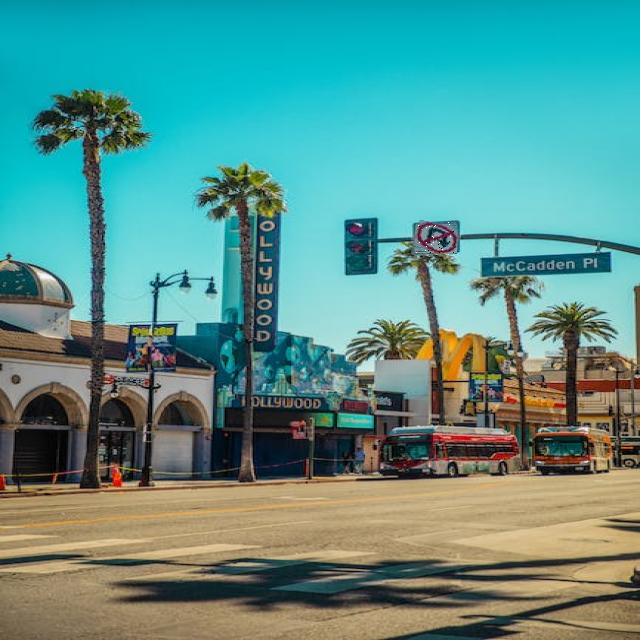no u turn: (415, 222, 457, 254)
